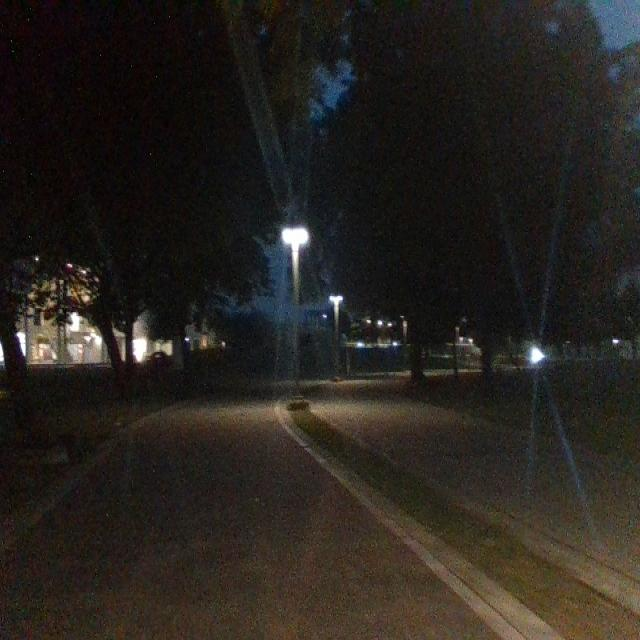lane: (1, 400, 506, 640)
